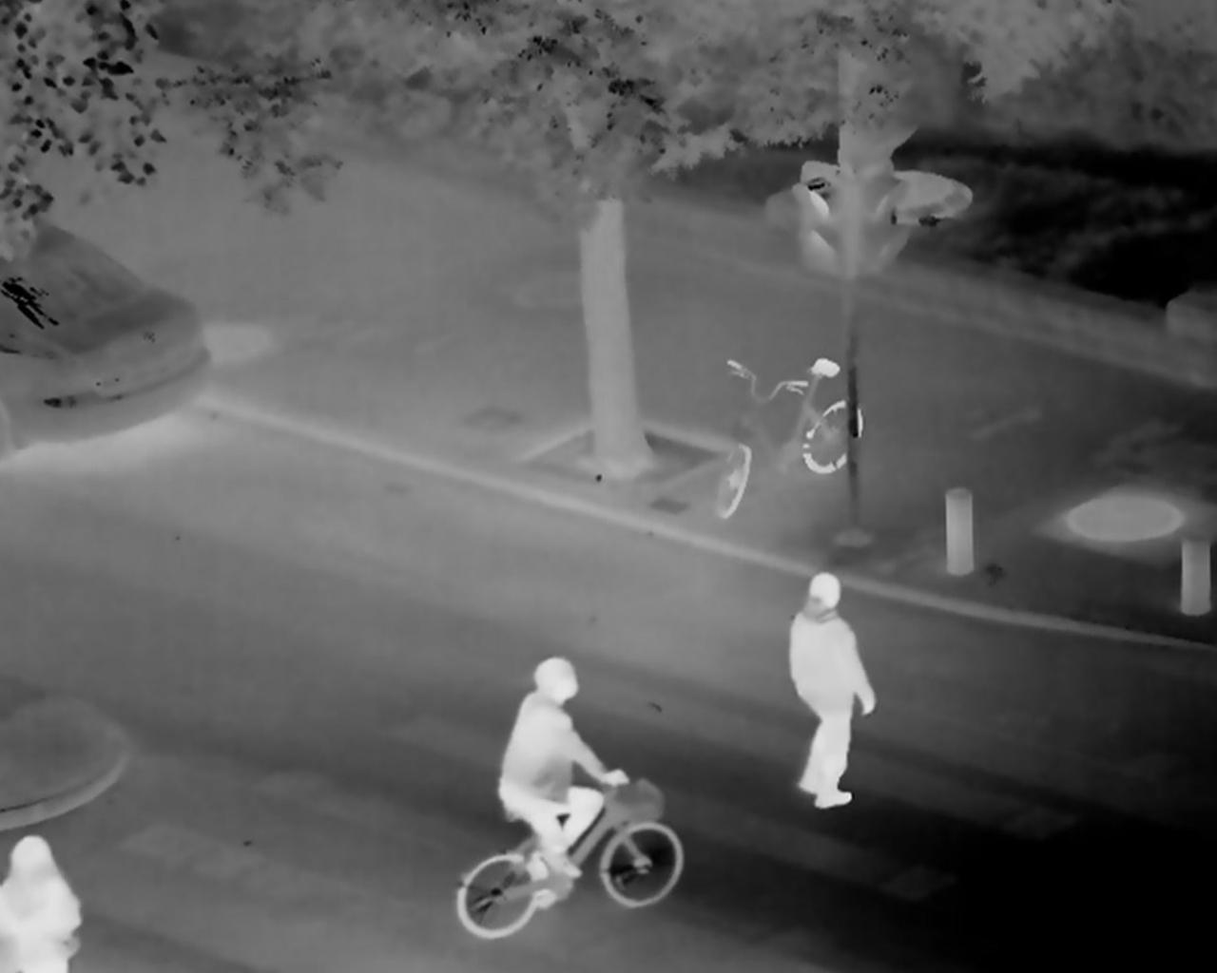person: (493, 658, 632, 898), (786, 569, 879, 812)
